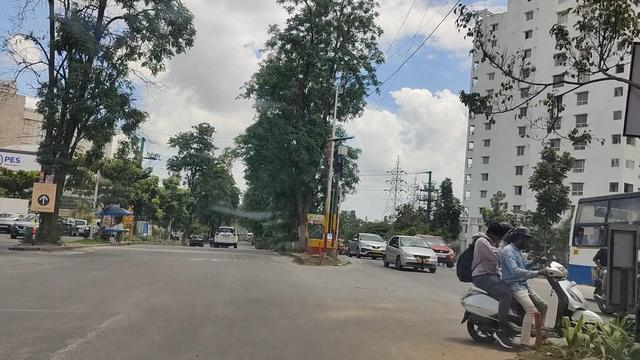RoadDamages: (49, 299, 123, 360)
